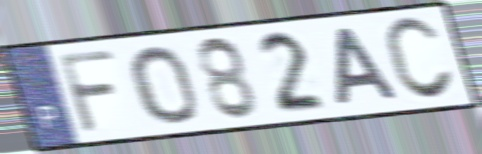2: (257, 28, 331, 117)
8: (196, 33, 258, 123)
A: (334, 24, 403, 109)
C: (381, 14, 459, 104)
F: (55, 48, 122, 136)
O: (126, 43, 202, 126)
